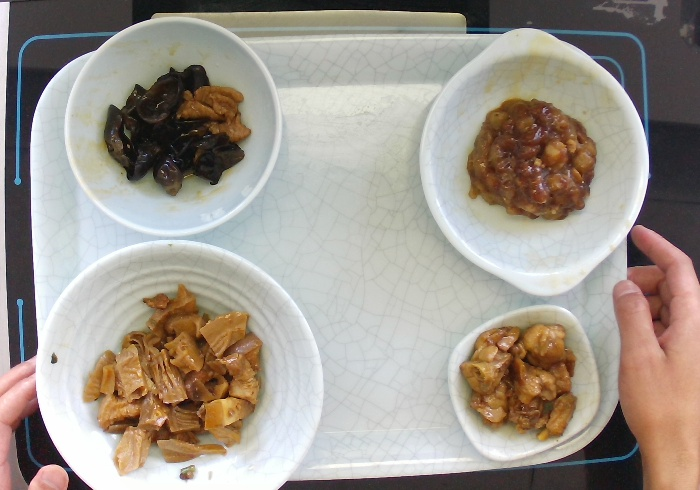JYsf-Fan_Wan: (63, 14, 285, 234)
JYsf-Shuang_Er_Wan: (415, 24, 656, 295)
JYsf-Si_Fang_Die: (447, 303, 608, 466)
JYsf-Xiao_Tang_Wan: (34, 236, 328, 490)
